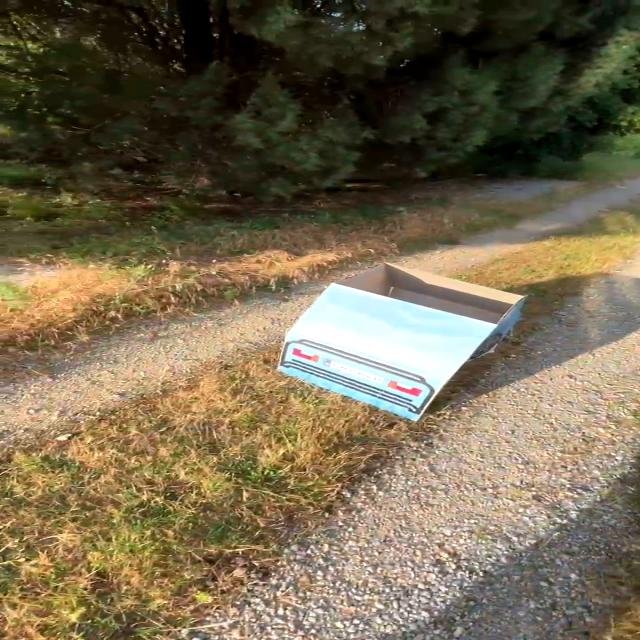blue_car: (223, 258, 562, 434)
